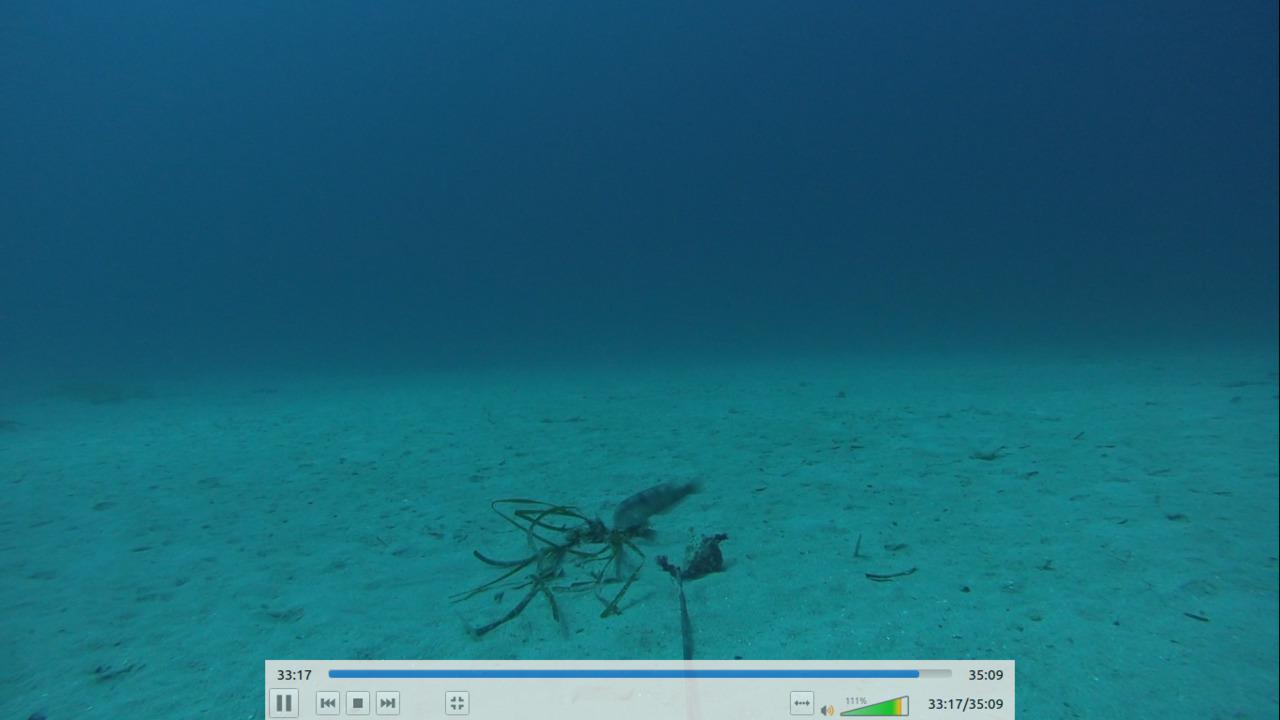raor: (606, 468, 703, 533)
